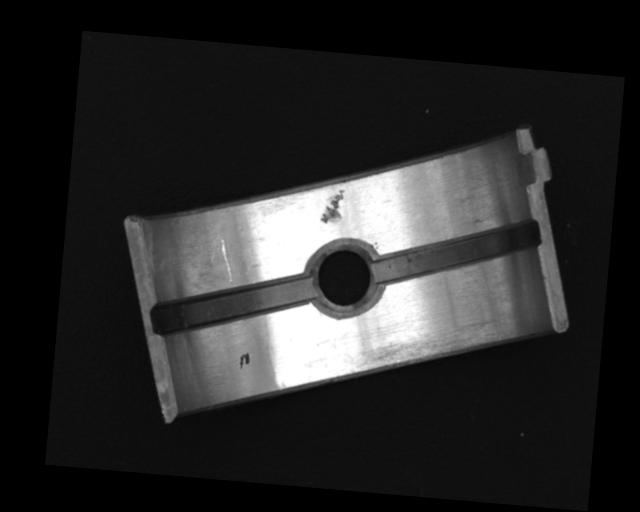blot: (237, 351, 251, 370)
bruise: (320, 186, 347, 225)
gap: (372, 208, 540, 295), (151, 264, 314, 345)
hole: (307, 238, 382, 319)
nick: (215, 237, 236, 284)
scratch: (355, 306, 505, 386)
